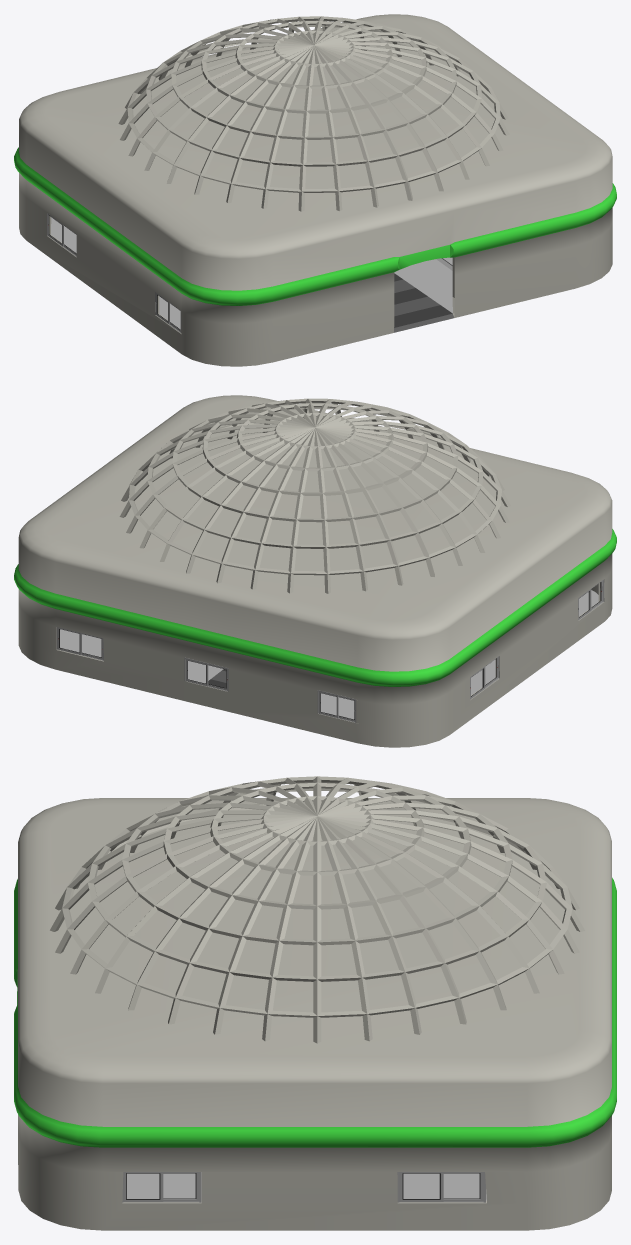
File: laboratoire.glb
3 renders of one model, top to bottom at view 1: azimuth 30°, elevation 25°; view 2: azimuth 150°, elevation 25°; view 3: azimuth 270°, elevation 25°, orthographic. The views are drawn at different scales.
Parts seen in each view (by area): view 1: Cube, Sphere; view 2: Cube, Sphere; view 3: Cube, Sphere, Sliding window.005, Sliding window.006.
Boxes of the visible parts, box(x1,y1,x2,y2) form: Cube: box(14, 14, 616, 366); Sphere: box(118, 16, 509, 211); Cube: box(14, 395, 616, 747); Sphere: box(119, 398, 510, 593); Cube: box(14, 798, 616, 1230); Sphere: box(50, 776, 584, 1043); Sliding window.005: box(397, 1172, 485, 1202); Sliding window.006: box(122, 1172, 201, 1202).
Bounding box in the file's own units: 20.63 × 9.19 × 18.37.
